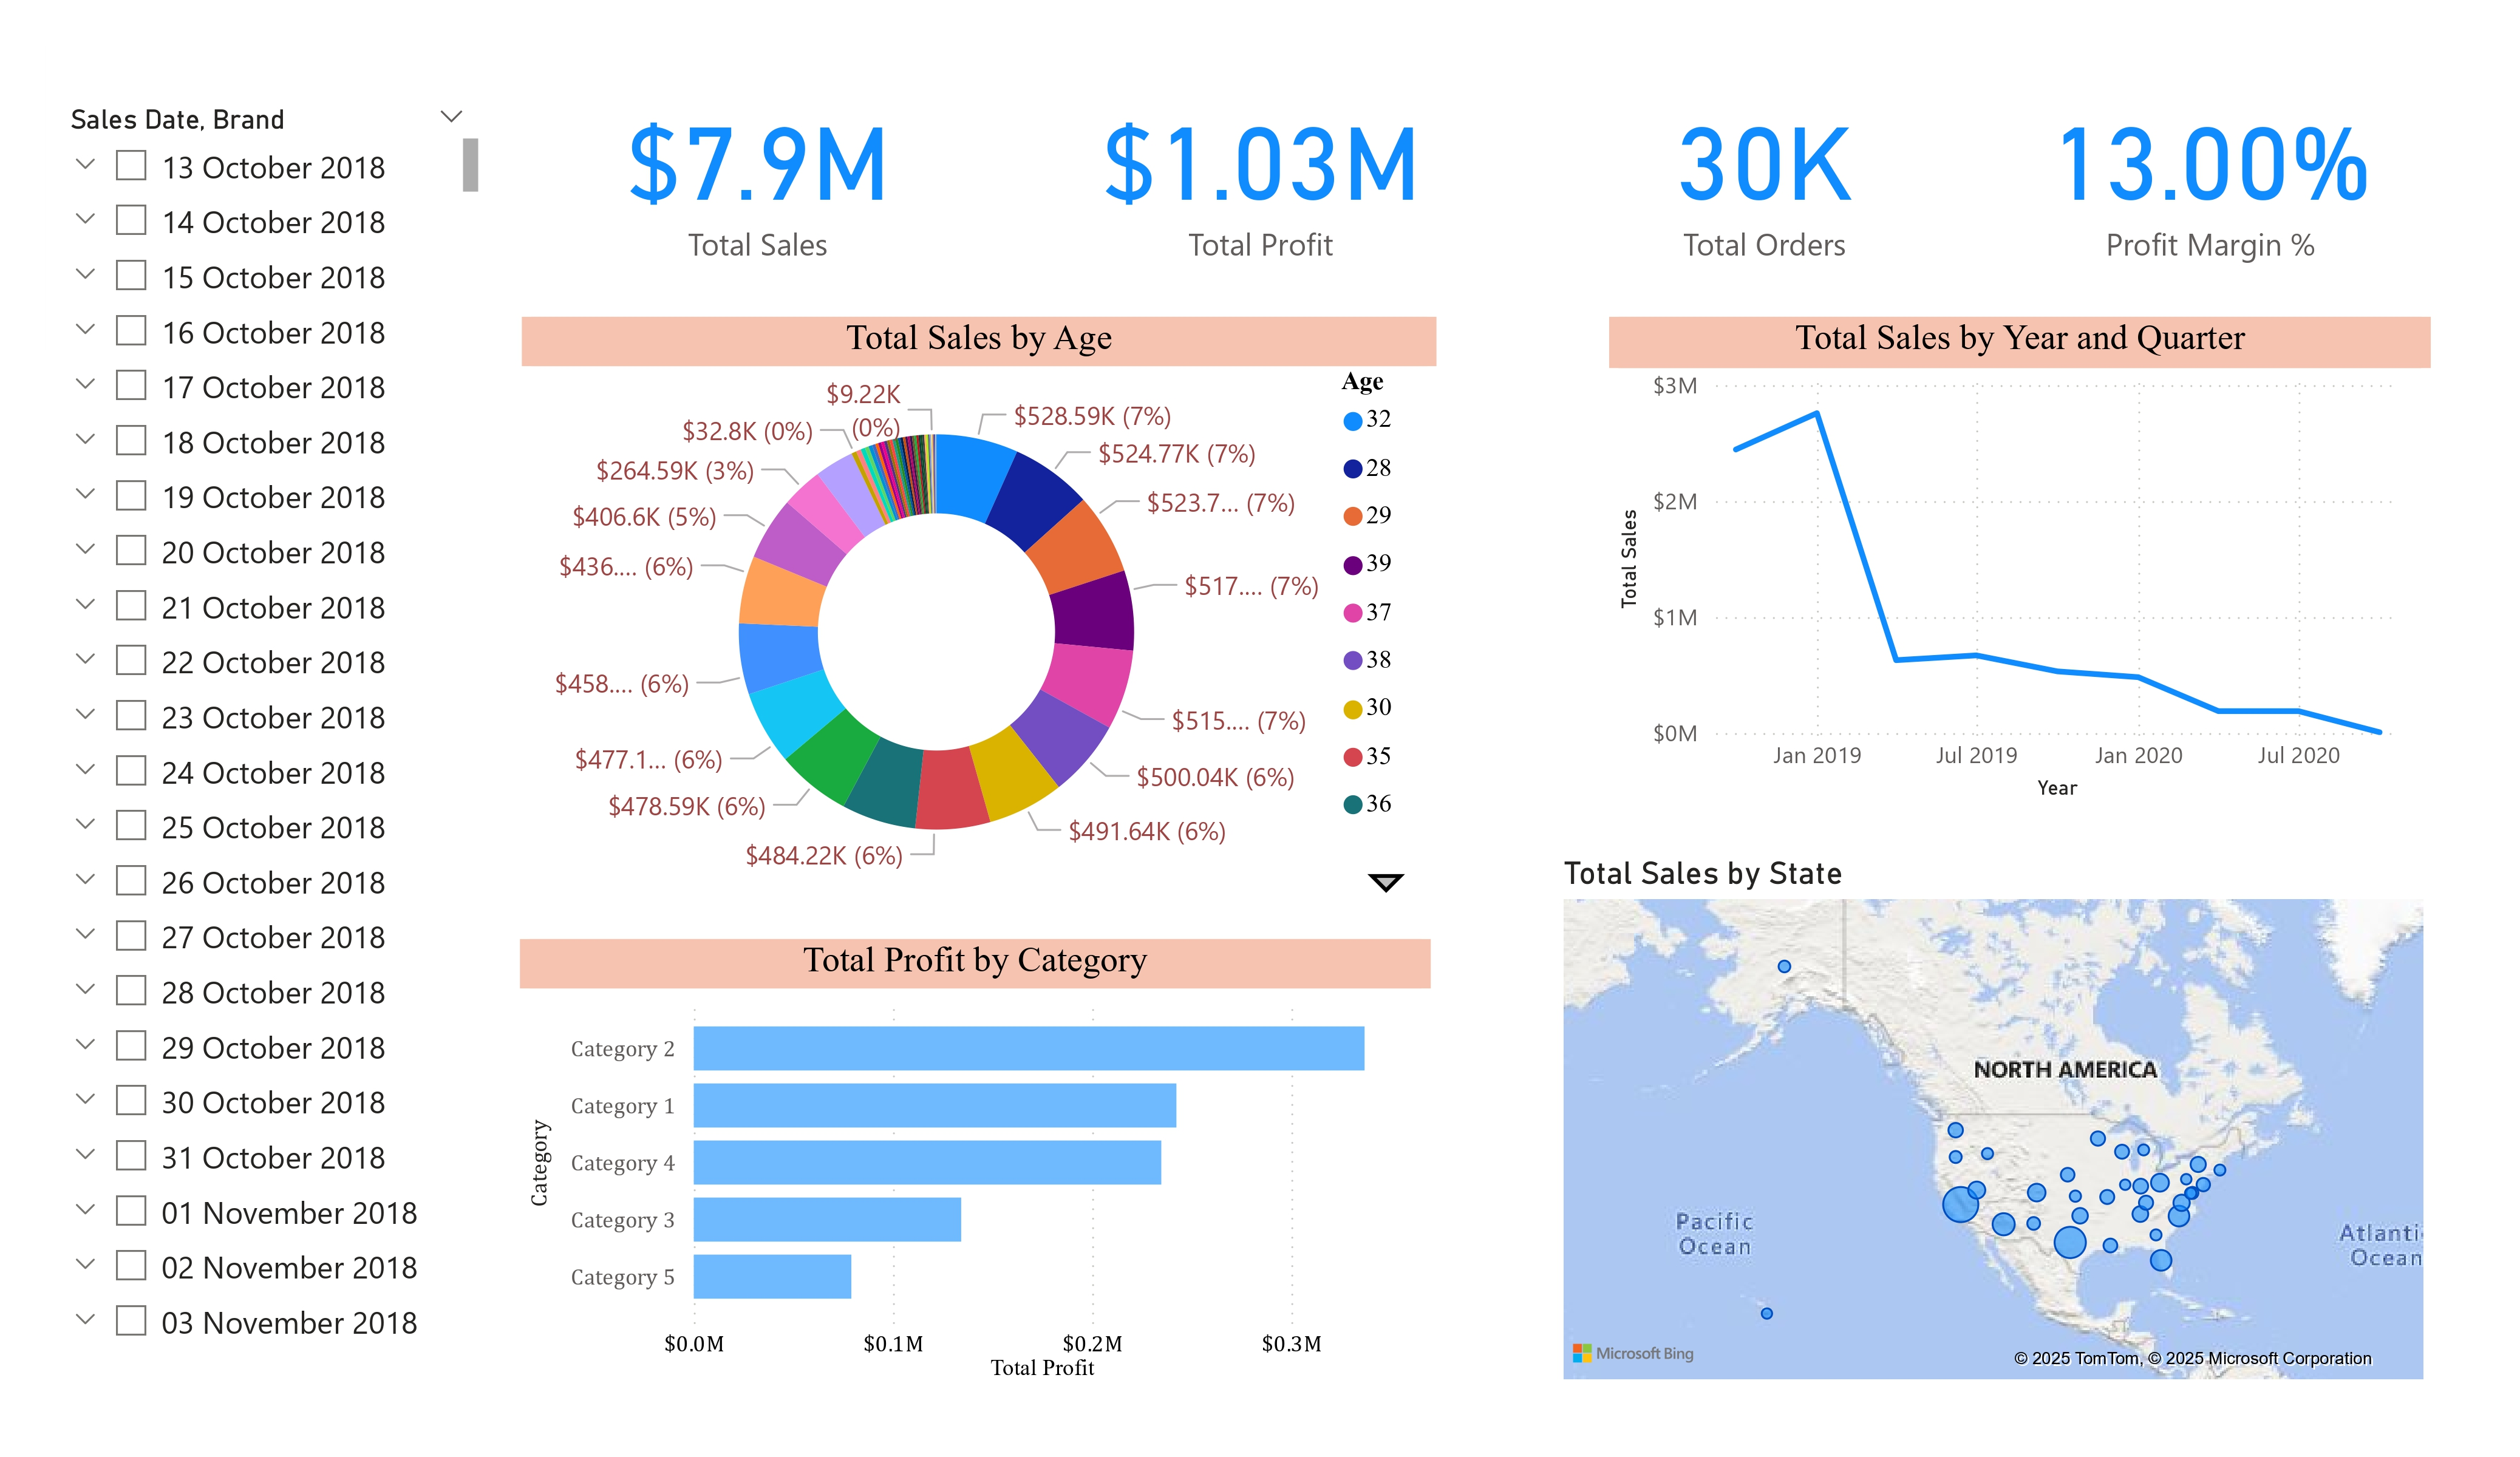

The page's visual inventory and layout, read from the dashboard file:
{"tool":"powerbi","page":{"name":"Page 1","canvas":[1280,720],"ordinal":0},"visuals":[{"type":"slicer","fields":{"Values":["Sales.Sales Date","Item.Brand"]},"box":[0,26.2,233,666.3],"z":0},{"type":"card","fields":{"Values":["Measure.Total Sales"]},"box":[294.5,10.5,161,111.3],"z":1000},{"type":"card","fields":{"Values":["Measure.Profit Margin %"]},"box":[1036.8,10.5,208.1,111.3],"z":2000},{"type":"card","fields":{"Values":["Measure.Total Orders"]},"box":[809,10.5,193.7,111.3],"z":3000},{"type":"card","fields":{"Values":["Measure.Total Profit"]},"box":[527.6,10.5,225.2,111.3],"z":4000},{"type":"lineChart","fields":{"Category":["Sales.Sales Date.Variation.Date Hierarchy.Year","Sales.Sales Date.Variation.Date Hierarchy.Quarter","Sales.Sales Date.Variation.Date Hierarchy.Month","Sales.Sales Date.Variation.Date Hierarchy.Day"],"Y":["Measure.Total Sales"]},"box":[823.7,142.6,433.4,259.2],"z":5000},{"type":"map","fields":{"Category":["Geography.State"],"Size":["Measure.Total Sales"]},"box":[795,426.2,462.5,282.5],"z":6000},{"type":"barChart","fields":{"Category":["Item.Category"],"Y":["Measure.Total Profit"]},"box":[250,471.3,480.4,236.9],"z":7000},{"type":"donutChart","fields":{"Category":["Customer.Age"],"Y":["Measure.Total Sales"]},"box":[250.6,142.6,482.4,311],"z":8000}]}

Visuals, with their boxes on the page's 1280x720 design canvas (x1, y1, x2, y2). These are canvas units, not pixel positions in the 2520x1457 screenshot, which may show the page scaled, cropped or inside an application window:
slicer - Sales.Sales Date x Item.Brand: (0, 26, 233, 692)
card - Measure.Total Sales: (294, 10, 456, 122)
card - Measure.Profit Margin %: (1037, 10, 1245, 122)
card - Measure.Total Orders: (809, 10, 1003, 122)
card - Measure.Total Profit: (528, 10, 753, 122)
lineChart - Sales.Sales Date.Variation.Date Hierarchy.Year x Sales.Sales Date.Variation.Date Hierarchy.Quarter: (824, 143, 1257, 402)
map - Geography.State x Measure.Total Sales: (795, 426, 1258, 709)
barChart - Item.Category x Measure.Total Profit: (250, 471, 730, 708)
donutChart - Customer.Age x Measure.Total Sales: (251, 143, 733, 454)
